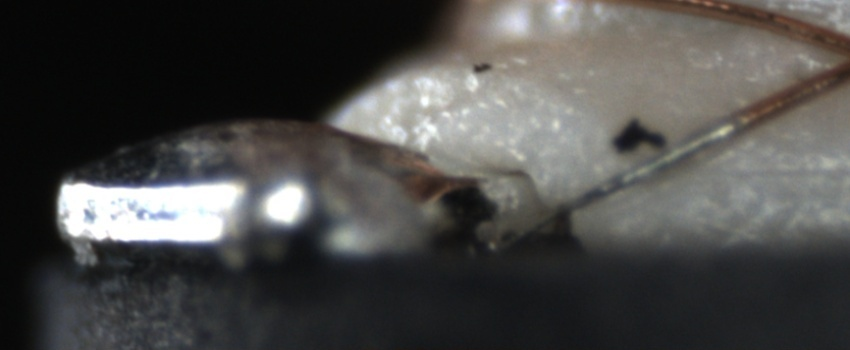DL: (691, 140, 849, 197)
TS: (554, 115, 747, 215)
TTCW: (504, 86, 800, 248)
